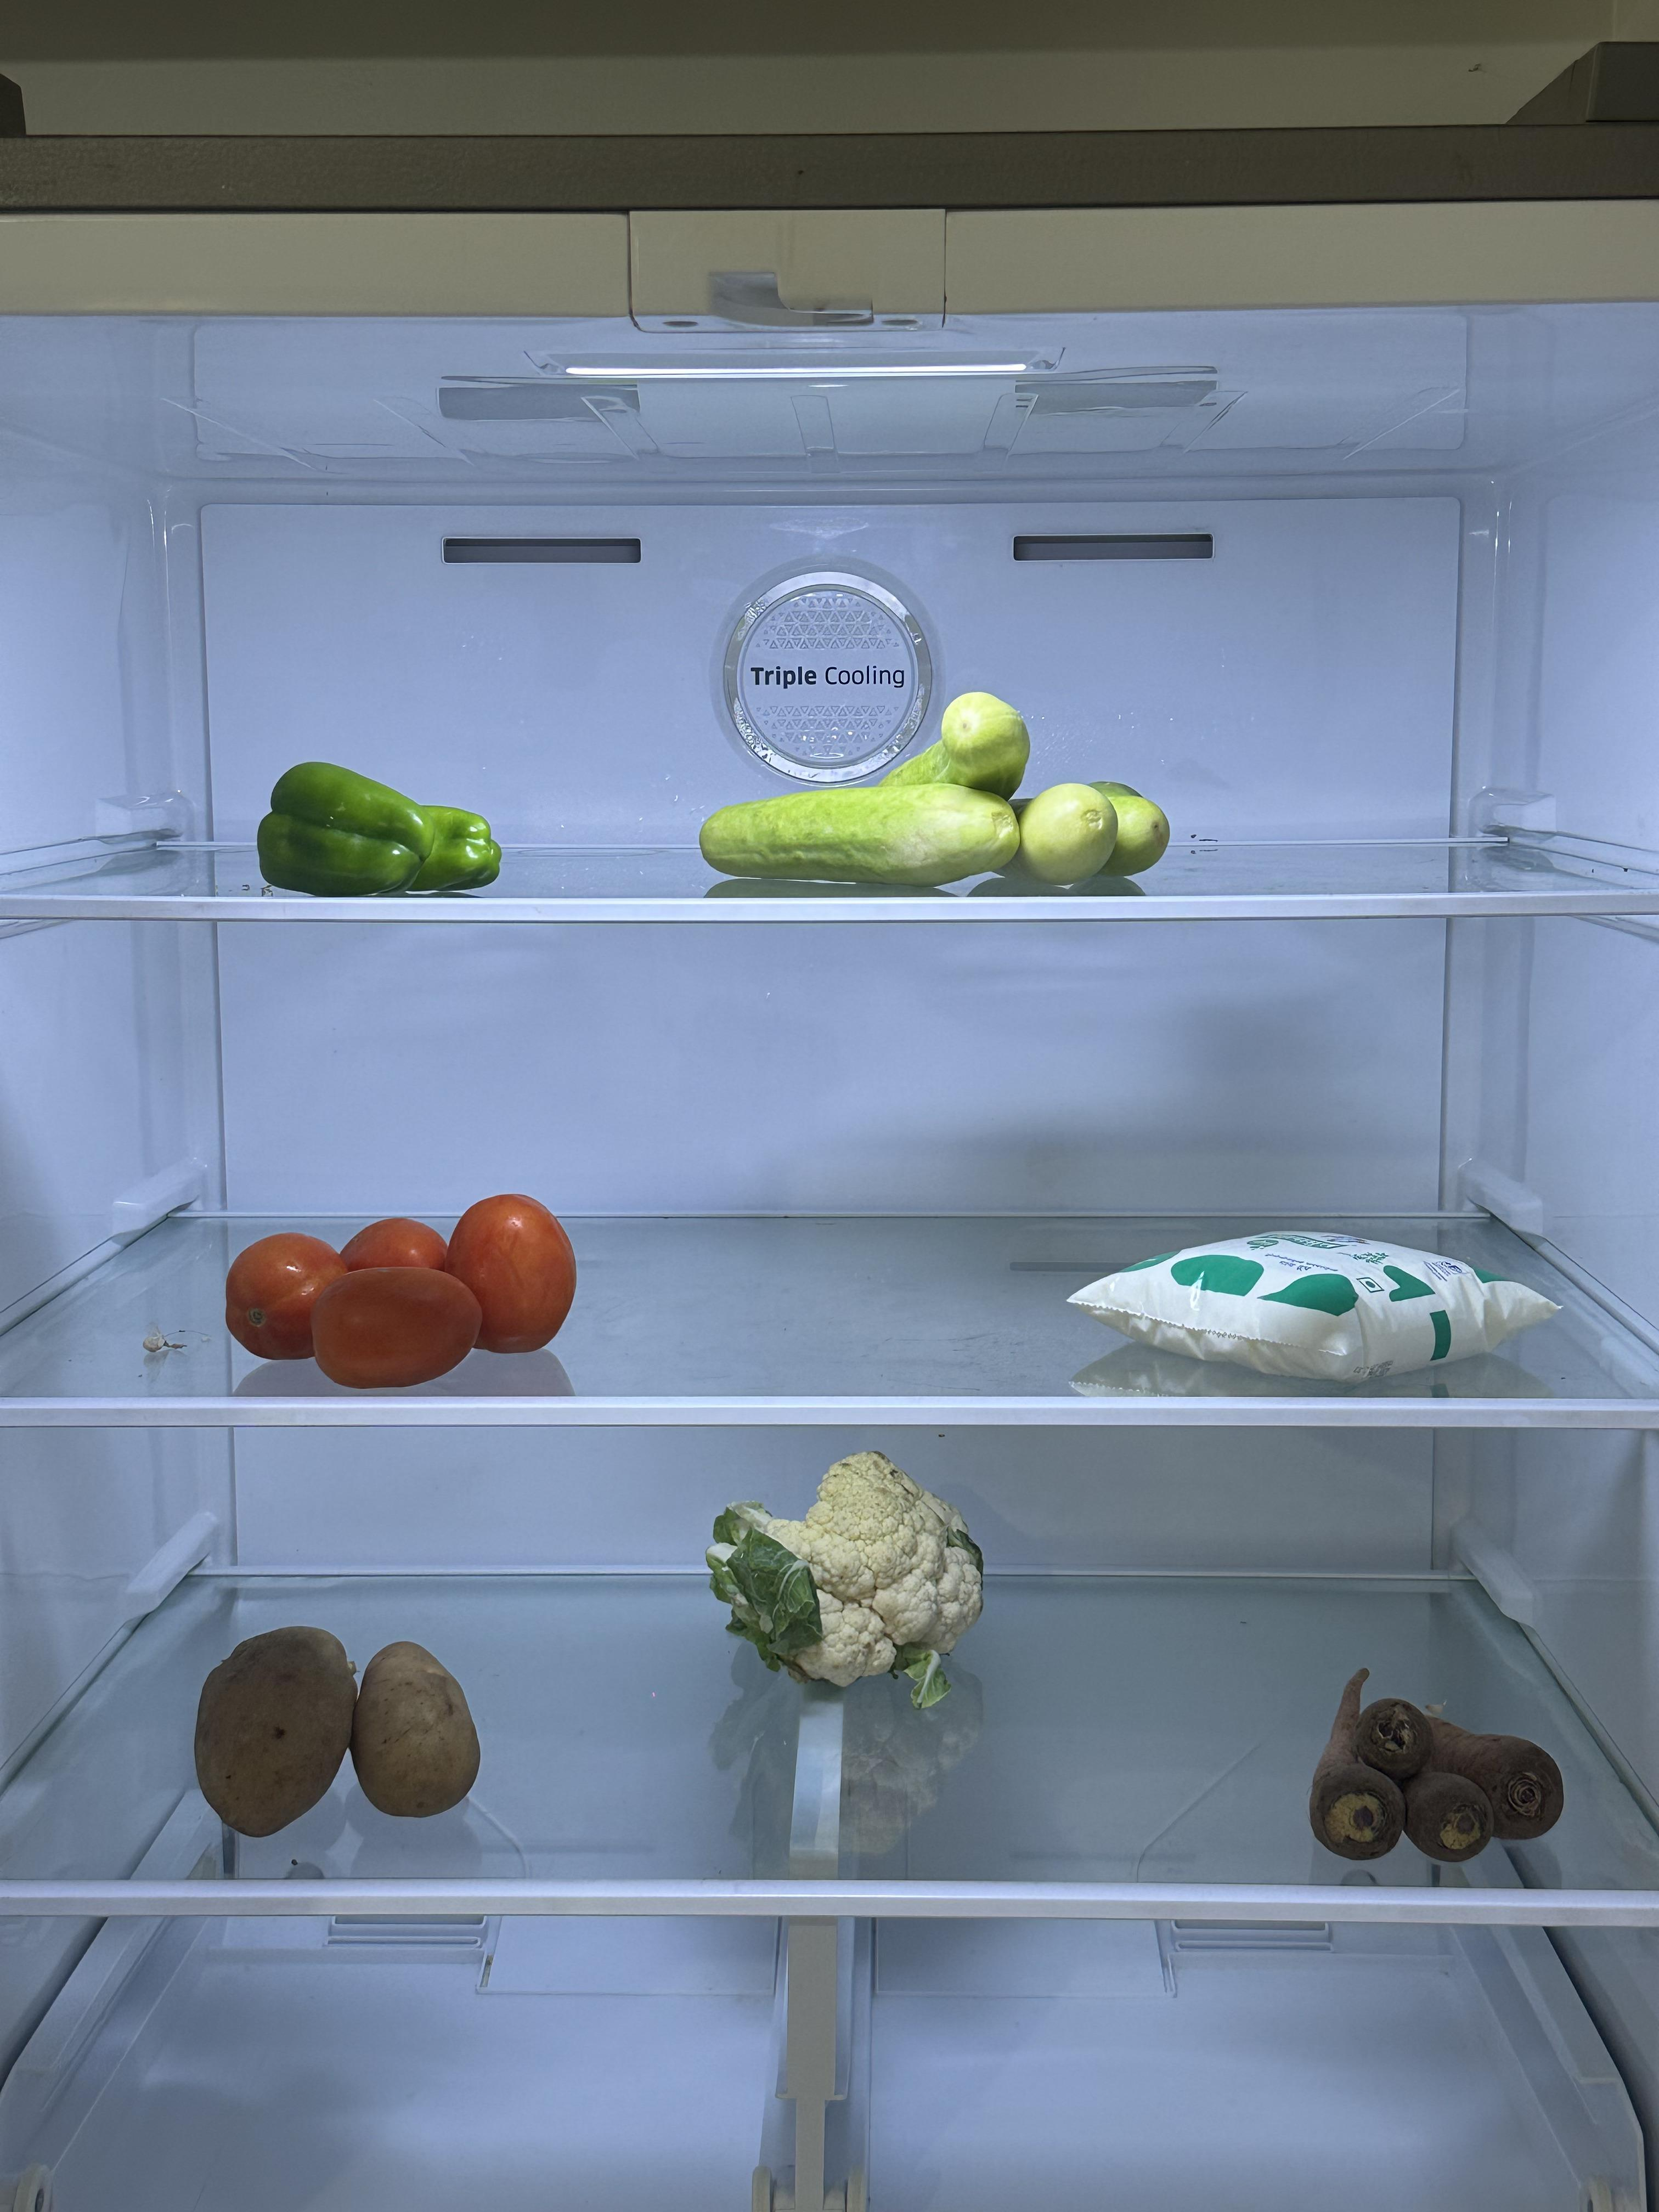capsicum: (242, 732, 495, 911)
carrots: (1284, 1648, 1574, 1872)
cauliflower: (697, 1454, 1004, 1696)
cucumber: (704, 686, 1188, 899)
milk: (1044, 1191, 1570, 1399)
potato: (183, 1609, 481, 1843)
tomato: (199, 1191, 587, 1390)
